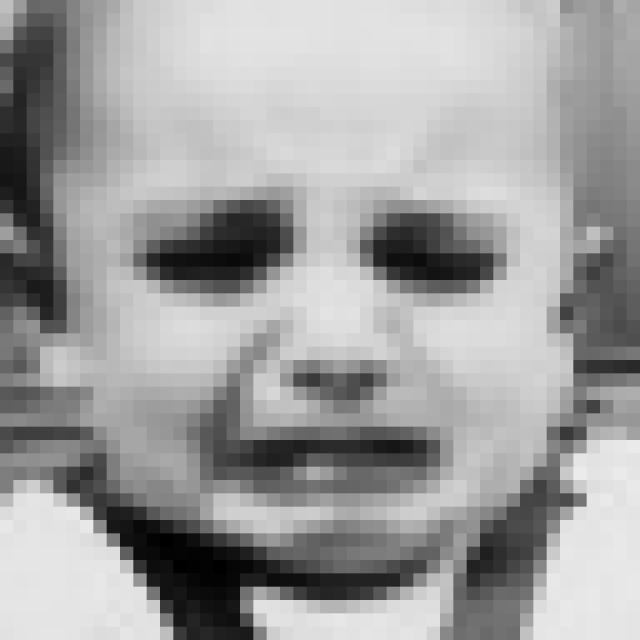sad: (122, 180, 512, 506)
